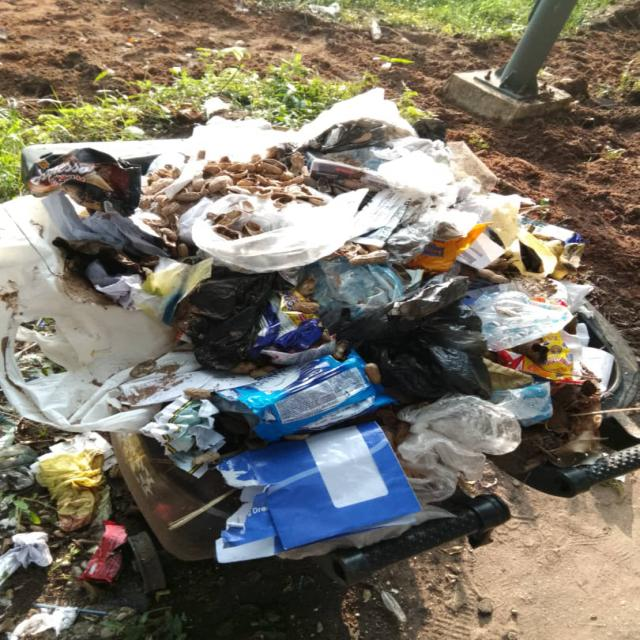overflowing: (8, 121, 602, 574)
